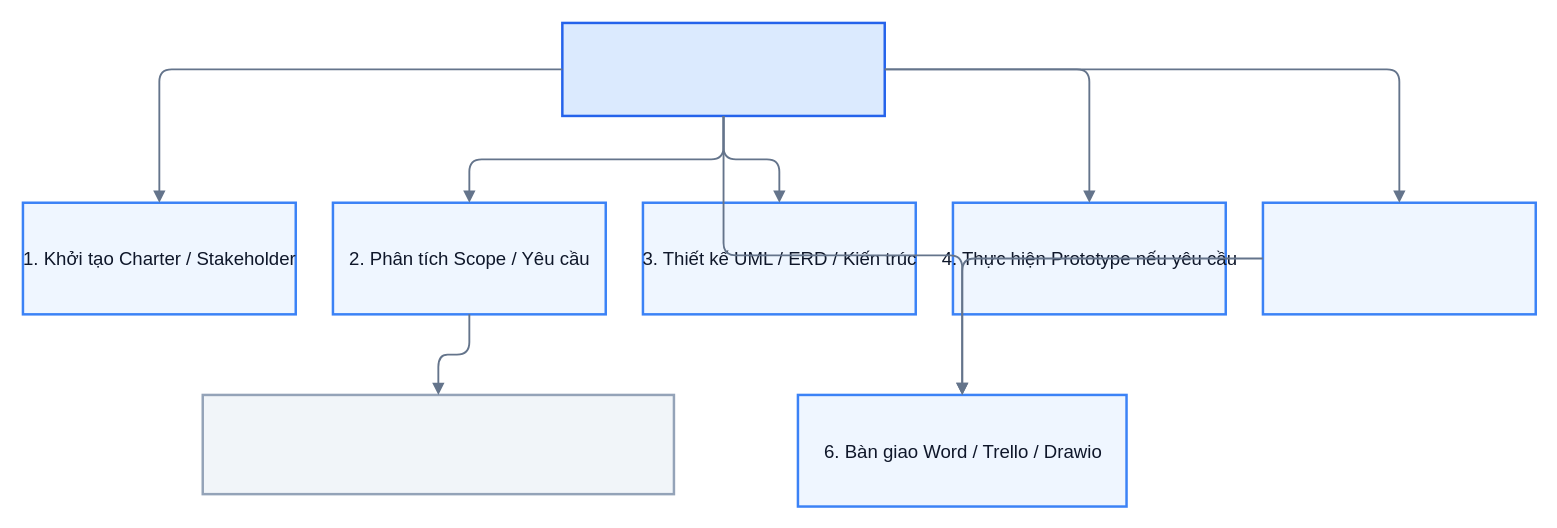
Image size: 1557x528. Some labels were removed from this diagram. Each missing label, with the box of its shape:
5. Chất lượng Review / Test: (1261, 201, 1536, 315)
DỰ ÁN LMS: (560, 21, 885, 117)
Lưu bằng chứng theo từng thẻ Trello: (201, 393, 675, 495)
